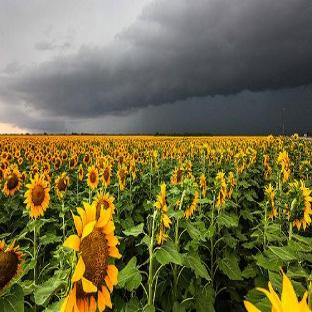sunflower: (62, 201, 121, 312)
